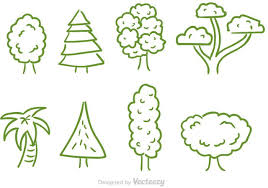tree: (172, 0, 266, 81), (173, 107, 255, 174), (53, 97, 115, 174), (109, 2, 170, 78), (123, 80, 164, 174), (0, 98, 52, 172), (53, 4, 105, 75), (6, 8, 49, 79)
